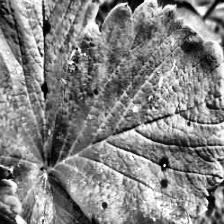Leaf Spot: (47, 0, 224, 224), (0, 0, 101, 169)
